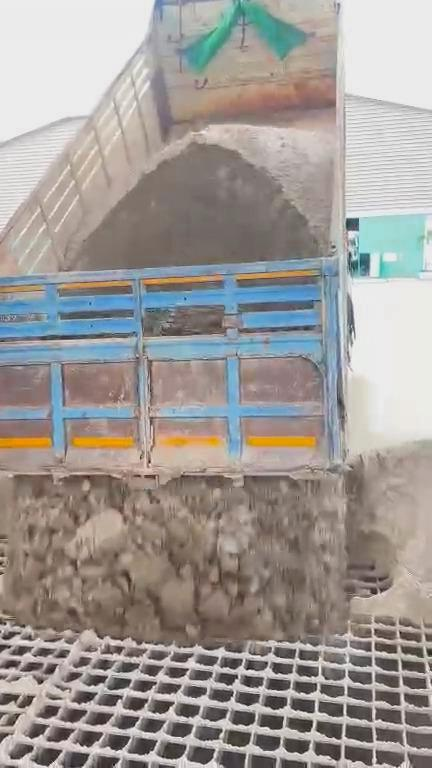sand: (6, 473, 346, 643), (79, 125, 341, 269), (343, 440, 432, 618), (150, 308, 222, 337)
